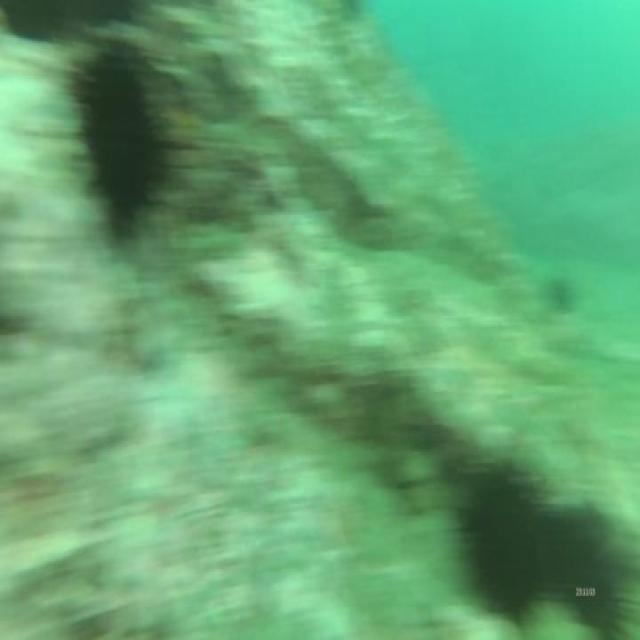echinus: (68, 41, 170, 250), (463, 452, 550, 621)
